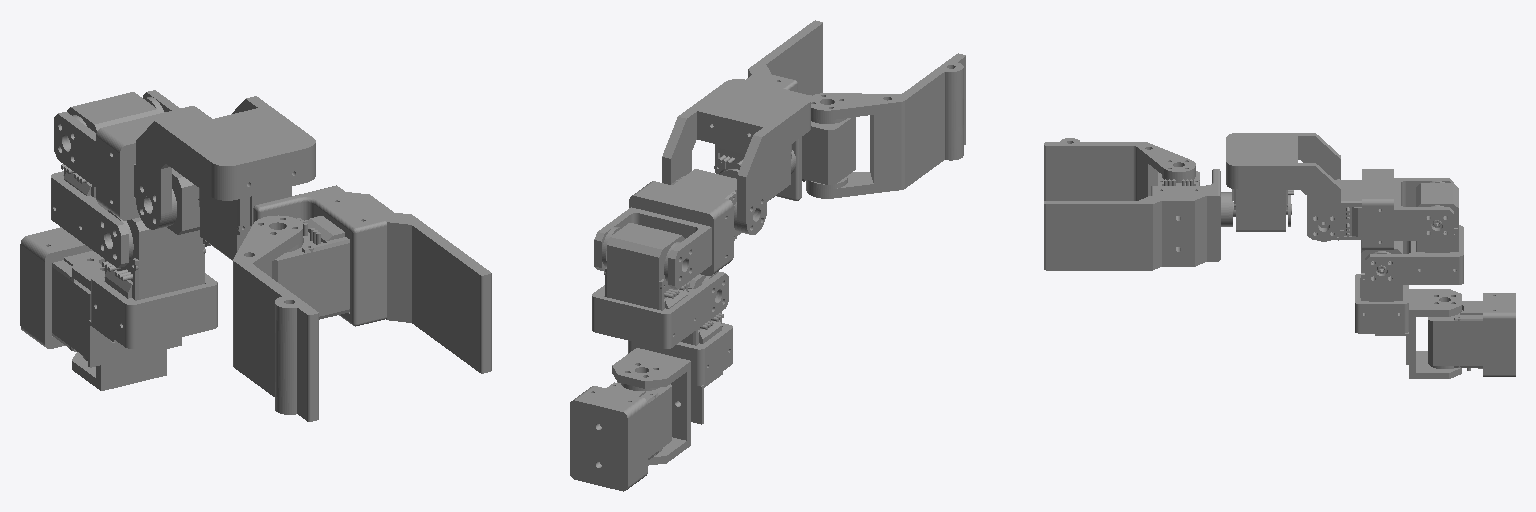
The robot description file, URDF, robot "arm_main":
<?xml version="1.0" ?>
<!-- =================================================================================== -->
<!-- |    This document was autogenerated by xacro from urdf/arm_main.xacro            | -->
<!-- |    EDITING THIS FILE BY HAND IS NOT RECOMMENDED                                 | -->
<!-- =================================================================================== -->
<robot name="arm_main">
  <material name="silver_default">
    <color rgba="0.700 0.700 0.700 1.000"/>
  </material>
  <material name="steel_satin">
    <color rgba="0.6274509803921569 0.6274509803921569 0.6274509803921569 1.0"/>
  </material>
  <transmission name="Revolute 7_tran">
    <type>transmission_interface/SimpleTransmission</type>
    <joint name="Revolute 7">
      <hardwareInterface>hardware_interface/EffortJointInterface</hardwareInterface>
    </joint>
    <actuator name="Revolute 7_actr">
      <hardwareInterface>hardware_interface/EffortJointInterface</hardwareInterface>
      <mechanicalReduction>1</mechanicalReduction>
    </actuator>
  </transmission>
  <transmission name="Revolute 8_tran">
    <type>transmission_interface/SimpleTransmission</type>
    <joint name="Revolute 8">
      <hardwareInterface>hardware_interface/EffortJointInterface</hardwareInterface>
    </joint>
    <actuator name="Revolute 8_actr">
      <hardwareInterface>hardware_interface/EffortJointInterface</hardwareInterface>
      <mechanicalReduction>1</mechanicalReduction>
    </actuator>
  </transmission>
  <transmission name="Revolute 9_tran">
    <type>transmission_interface/SimpleTransmission</type>
    <joint name="Revolute 9">
      <hardwareInterface>hardware_interface/EffortJointInterface</hardwareInterface>
    </joint>
    <actuator name="Revolute 9_actr">
      <hardwareInterface>hardware_interface/EffortJointInterface</hardwareInterface>
      <mechanicalReduction>1</mechanicalReduction>
    </actuator>
  </transmission>
  <transmission name="Revolute 11_tran">
    <type>transmission_interface/SimpleTransmission</type>
    <joint name="Revolute 11">
      <hardwareInterface>hardware_interface/EffortJointInterface</hardwareInterface>
    </joint>
    <actuator name="Revolute 11_actr">
      <hardwareInterface>hardware_interface/EffortJointInterface</hardwareInterface>
      <mechanicalReduction>1</mechanicalReduction>
    </actuator>
  </transmission>
  <transmission name="Revolute 12_tran">
    <type>transmission_interface/SimpleTransmission</type>
    <joint name="Revolute 12">
      <hardwareInterface>hardware_interface/EffortJointInterface</hardwareInterface>
    </joint>
    <actuator name="Revolute 12_actr">
      <hardwareInterface>hardware_interface/EffortJointInterface</hardwareInterface>
      <mechanicalReduction>1</mechanicalReduction>
    </actuator>
  </transmission>
  <link name="base_link">
    <inertial>
      <origin rpy="0 0 0" xyz="-0.0013499999845841886 0.05547364405613593 -0.03925880078129778"/>
      <mass value="0.3900830776668987"/>
      <inertia ixx="0.000131" ixy="-0.0" ixz="0.0" iyy="7.1e-05" iyz="2e-06" izz="0.000111"/>
    </inertial>
    <visual>
      <origin rpy="0 0 0" xyz="0 0 0"/>
      <geometry>
        <mesh filename="package://komarm/meshes/base_link.stl" scale="0.001 0.001 0.001"/>
      </geometry>
      <material name="steel_satin"/>
    </visual>
    <collision>
      <origin rpy="0 0 0" xyz="0 0 0"/>
      <geometry>
        <mesh filename="package://komarm/meshes/base_link.stl" scale="0.001 0.001 0.001"/>
      </geometry>
    </collision>
  </link>
  <link name="servo_holder2_v9_1">
    <inertial>
      <origin rpy="0 0 0" xyz="-0.022087999236917965 -0.042450935490717844 1.2480391720082196e-11"/>
      <mass value="0.4815312282713089"/>
      <inertia ixx="0.000189" ixy="1e-06" ixz="-0.0" iyy="0.000107" iyz="-0.0" izz="0.000233"/>
    </inertial>
    <visual>
      <origin rpy="0 0 0" xyz="-0.0217 -0.0324 -0.04195"/>
      <geometry>
        <mesh filename="package://komarm/meshes/servo_holder2_v9_1.stl" scale="0.001 0.001 0.001"/>
      </geometry>
      <material name="steel_satin"/>
    </visual>
    <collision>
      <origin rpy="0 0 0" xyz="-0.0217 -0.0324 -0.04195"/>
      <geometry>
        <mesh filename="package://komarm/meshes/servo_holder2_v9_1.stl" scale="0.001 0.001 0.001"/>
      </geometry>
    </collision>
  </link>
  <link name="hand_rotation_v13_4">
    <inertial>
      <origin rpy="0 0 0" xyz="-0.023199999989310653 -0.03180704370383808 0.018913049005446277"/>
      <mass value="0.49875676728406393"/>
      <inertia ixx="0.000221" ixy="-0.0" ixz="-0.0" iyy="0.000177" iyz="7e-06" izz="0.0002"/>
    </inertial>
    <visual>
      <origin rpy="0 0 0" xyz="-0.0227 0.0338 -0.04195"/>
      <geometry>
        <mesh filename="package://komarm/meshes/hand_rotation_v13_4.stl" scale="0.001 0.001 0.001"/>
      </geometry>
      <material name="steel_satin"/>
    </visual>
    <collision>
      <origin rpy="0 0 0" xyz="-0.0227 0.0338 -0.04195"/>
      <geometry>
        <mesh filename="package://komarm/meshes/hand_rotation_v13_4.stl" scale="0.001 0.001 0.001"/>
      </geometry>
    </collision>
  </link>
  <link name="hand_v17_1">
    <inertial>
      <origin rpy="0 0 0" xyz="0.0018876663935760566 -0.04171122715355233 1.0007712861637152e-05"/>
      <mass value="0.8585184504197826"/>
      <inertia ixx="0.000709" ixy="-0.000142" ixz="-8e-06" iyy="0.000757" iyz="-2e-06" izz="0.001205"/>
    </inertial>
    <visual>
      <origin rpy="0 0 0" xyz="0.0005 0.0892 -0.04195"/>
      <geometry>
        <mesh filename="package://komarm/meshes/hand_v17_1.stl" scale="0.001 0.001 0.001"/>
      </geometry>
      <material name="steel_satin"/>
    </visual>
    <collision>
      <origin rpy="0 0 0" xyz="0.0005 0.0892 -0.04195"/>
      <geometry>
        <mesh filename="package://komarm/meshes/hand_v17_1.stl" scale="0.001 0.001 0.001"/>
      </geometry>
    </collision>
  </link>
  <link name="servo_holder_v23_3">
    <inertial>
      <origin rpy="0 0 0" xyz="-0.021805779723410443 0.030701332587508144 0.01143066713838994"/>
      <mass value="0.39894172696668956"/>
      <inertia ixx="0.000121" ixy="0.0" ixz="1e-06" iyy="0.000134" iyz="-8e-06" izz="9.8e-05"/>
    </inertial>
    <visual>
      <origin rpy="0 0 0" xyz="-0.0212 -0.0 -0.0125"/>
      <geometry>
        <mesh filename="package://komarm/meshes/servo_holder_v23_3.stl" scale="0.001 0.001 0.001"/>
      </geometry>
      <material name="steel_satin"/>
    </visual>
    <collision>
      <origin rpy="0 0 0" xyz="-0.0212 -0.0 -0.0125"/>
      <geometry>
        <mesh filename="package://komarm/meshes/servo_holder_v23_3.stl" scale="0.001 0.001 0.001"/>
      </geometry>
    </collision>
  </link>
  <link name="base_mount_v2_1">
    <inertial>
      <origin rpy="0 0 0" xyz="0.00023028138914044723 -0.03219987847844947 0.0037687224019273234"/>
      <mass value="0.4932742844219664"/>
      <inertia ixx="0.000272" ixy="1e-06" ixz="-2e-06" iyy="0.000248" iyz="6e-05" izz="0.000132"/>
    </inertial>
    <visual>
      <origin rpy="0 0 0" xyz="0.00135 -0.0369 0.0165"/>
      <geometry>
        <mesh filename="package://komarm/meshes/base_mount_v2_1.stl" scale="0.001 0.001 0.001"/>
      </geometry>
      <material name="steel_satin"/>
    </visual>
    <collision>
      <origin rpy="0 0 0" xyz="0.00135 -0.0369 0.0165"/>
      <geometry>
        <mesh filename="package://komarm/meshes/base_mount_v2_1.stl" scale="0.001 0.001 0.001"/>
      </geometry>
    </collision>
  </link>
  <joint name="Revolute 7" type="revolute">
    <origin rpy="0 0 0" xyz="0.0005 0.0324 0.02945"/>
    <parent link="servo_holder_v23_3"/>
    <child link="servo_holder2_v9_1"/>
    <axis xyz="1.0 -0.0 0.0"/>
    <limit effort="100" lower="-3.141593" upper="0.0" velocity="100"/>
  </joint>
  <joint name="Revolute 8" type="revolute">
    <origin rpy="0 0 0" xyz="0.001 -0.0662 0.0"/>
    <parent link="servo_holder2_v9_1"/>
    <child link="hand_rotation_v13_4"/>
    <axis xyz="1.0 0.0 0.0"/>
    <limit effort="100" lower="-0.349066" upper="1.570796" velocity="100"/>
  </joint>
  <joint name="Revolute 9" type="continuous">
    <origin rpy="0 0 0" xyz="-0.0232 -0.0554 0.0"/>
    <parent link="hand_rotation_v13_4"/>
    <child link="hand_v17_1"/>
    <axis xyz="-0.0 1.0 0.0"/>
  </joint>
  <joint name="Revolute 11" type="revolute">
    <origin rpy="0 0 0" xyz="0.02255 -0.0369 0.029"/>
    <parent link="base_mount_v2_1"/>
    <child link="servo_holder_v23_3"/>
    <axis xyz="-1.0 -0.0 -0.0"/>
    <limit effort="100" lower="-3.141593" upper="0.0" velocity="100"/>
  </joint>
  <joint name="Revolute 12" type="revolute">
    <origin rpy="0 0 0" xyz="-0.00135 0.0369 -0.0165"/>
    <parent link="base_link"/>
    <child link="base_mount_v2_1"/>
    <axis xyz="0.0 -0.0 -1.0"/>
    <limit effort="100" lower="-1.570796" upper="1.570796" velocity="100"/>
  </joint>
</robot>

--- Facts derived from the render (not from the file) ---
3 views of the same robot in one strip: view 1: azimuth 30°, elevation 25°; view 2: azimuth 150°, elevation 25°; view 3: azimuth 270°, elevation 25° (orthographic).
Model arm_main with 6 links and 5 joints (4 revolute, 1 continuous), rooted at base_link, posed all joints at 0.
Links seen in each view (by area): view 1: hand_v17_1, hand_rotation_v13_4, base_mount_v2_1, servo_holder2_v9_1, base_link, servo_holder_v23_3; view 2: hand_v17_1, hand_rotation_v13_4, servo_holder_v23_3, base_link, servo_holder2_v9_1, base_mount_v2_1; view 3: hand_v17_1, hand_rotation_v13_4, servo_holder2_v9_1, base_link, base_mount_v2_1, servo_holder_v23_3.
Link boxes in pixels (left/top/right/bottom): hand_v17_1: left=233, top=185, right=491, bottom=421; hand_rotation_v13_4: left=136, top=96, right=315, bottom=260; base_mount_v2_1: left=72, top=210, right=217, bottom=390; servo_holder2_v9_1: left=54, top=90, right=211, bottom=234; base_link: left=20, top=227, right=94, bottom=360; servo_holder_v23_3: left=51, top=92, right=210, bottom=267; hand_v17_1: left=746, top=20, right=965, bottom=200; hand_rotation_v13_4: left=662, top=79, right=810, bottom=234; servo_holder_v23_3: left=592, top=223, right=728, bottom=348; base_link: left=570, top=373, right=671, bottom=491; servo_holder2_v9_1: left=594, top=169, right=741, bottom=288; base_mount_v2_1: left=612, top=271, right=732, bottom=465; hand_v17_1: left=1044, top=138, right=1228, bottom=270; hand_rotation_v13_4: left=1226, top=133, right=1340, bottom=241; servo_holder2_v9_1: left=1307, top=169, right=1453, bottom=249; base_link: left=1428, top=293, right=1515, bottom=376; base_mount_v2_1: left=1355, top=240, right=1461, bottom=378; servo_holder_v23_3: left=1365, top=181, right=1463, bottom=284.
Bounding box of the posed robot: 0.0896 × 0.2752 × 0.1416 m (x, y, z).
Meshes: 6 distinct files referenced, 6 mesh visuals loaded (6 binary STL).
